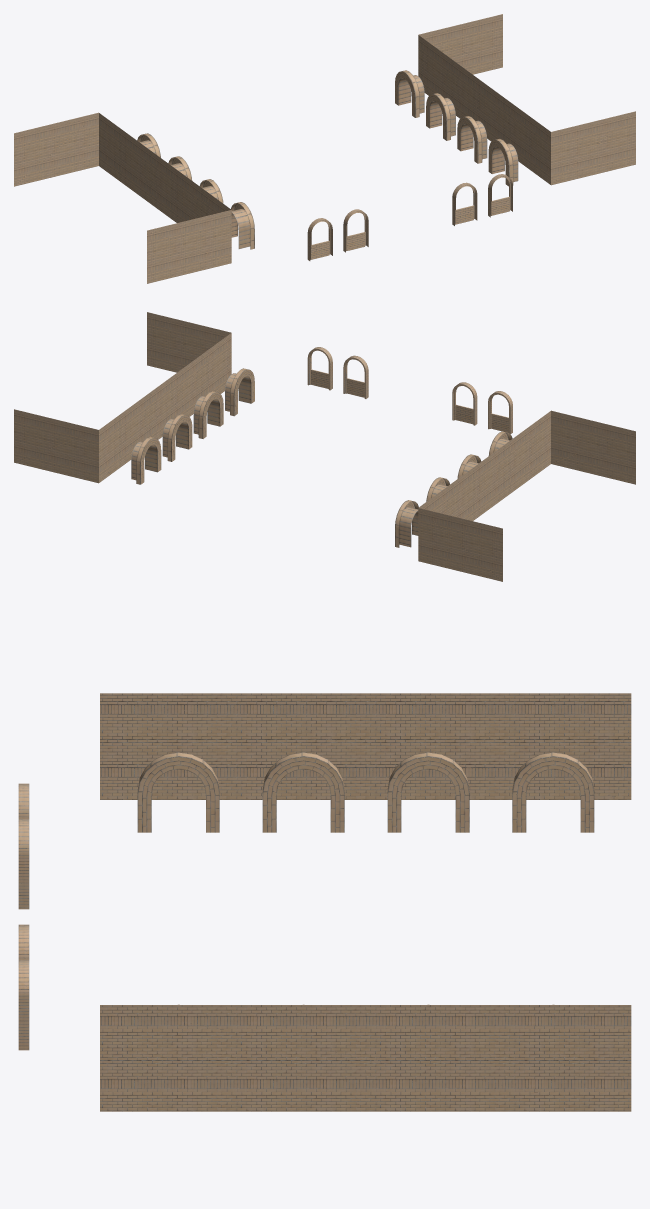
File: Steam_brick3.fbx
3 renders of one model, top to bottom at view 1: azimuth 30°, elevation 25°; view 2: azimuth 150°, elevation 25°; view 3: azimuth 270°, elevation 25°, orthographic. The views are drawn at different scales.
Visible parts, largest first — view 1: Steam_brick3; view 2: Steam_brick3; view 3: Steam_brick3.
Boxes of the visible parts, x1=… form: Steam_brick3: x1=14, y1=14, x2=635, y2=283; Steam_brick3: x1=14, y1=312, x2=635, y2=581; Steam_brick3: x1=18, y1=693, x2=631, y2=1111.
Size of the model in its own units: 451 by 47.38 by 245.
